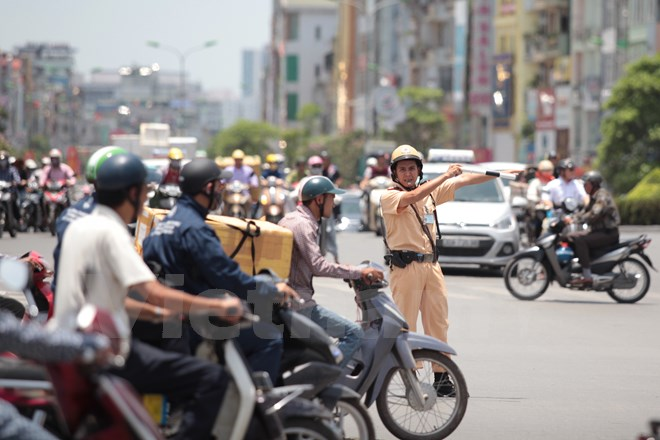police: (365, 145, 512, 398)
